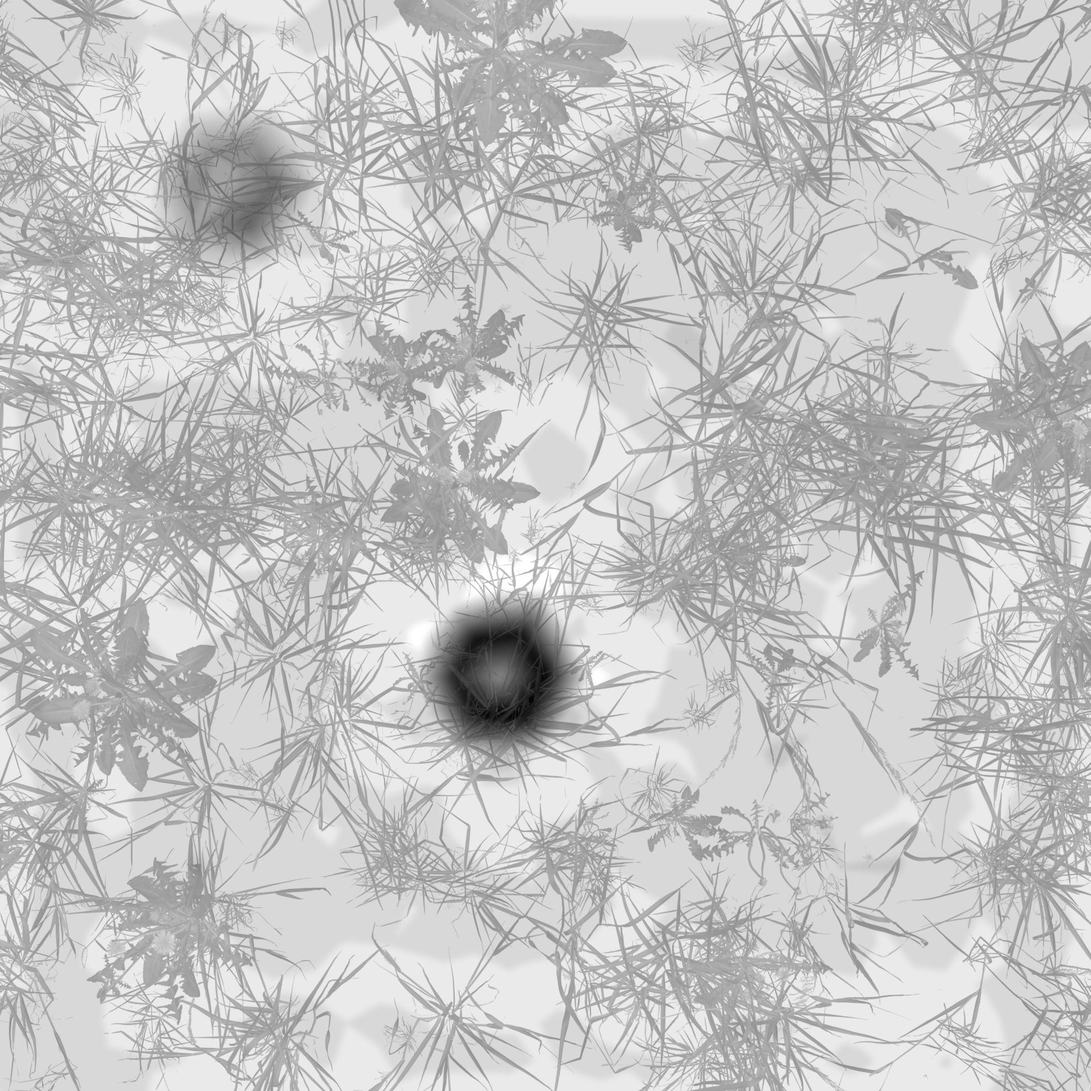landmine: (433, 600, 576, 739), (166, 122, 295, 248)
